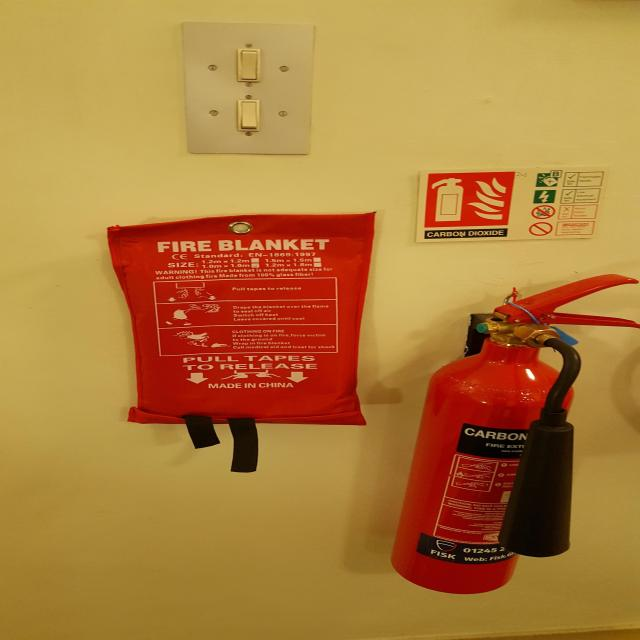fire_extinguisher: (386, 266, 640, 599)
